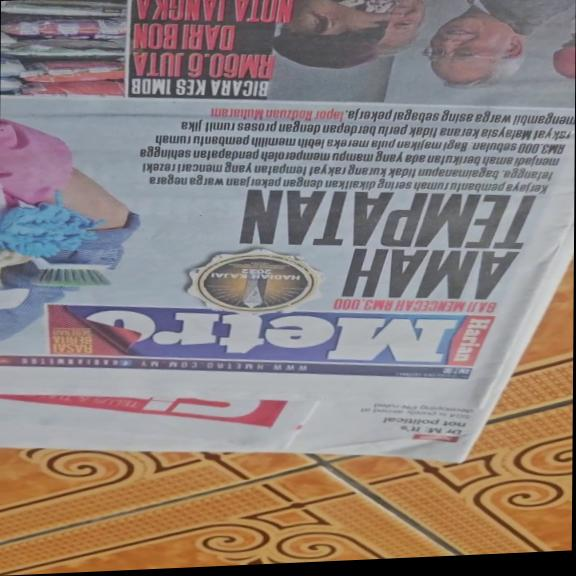Kertas: (0, 0, 469, 446)
